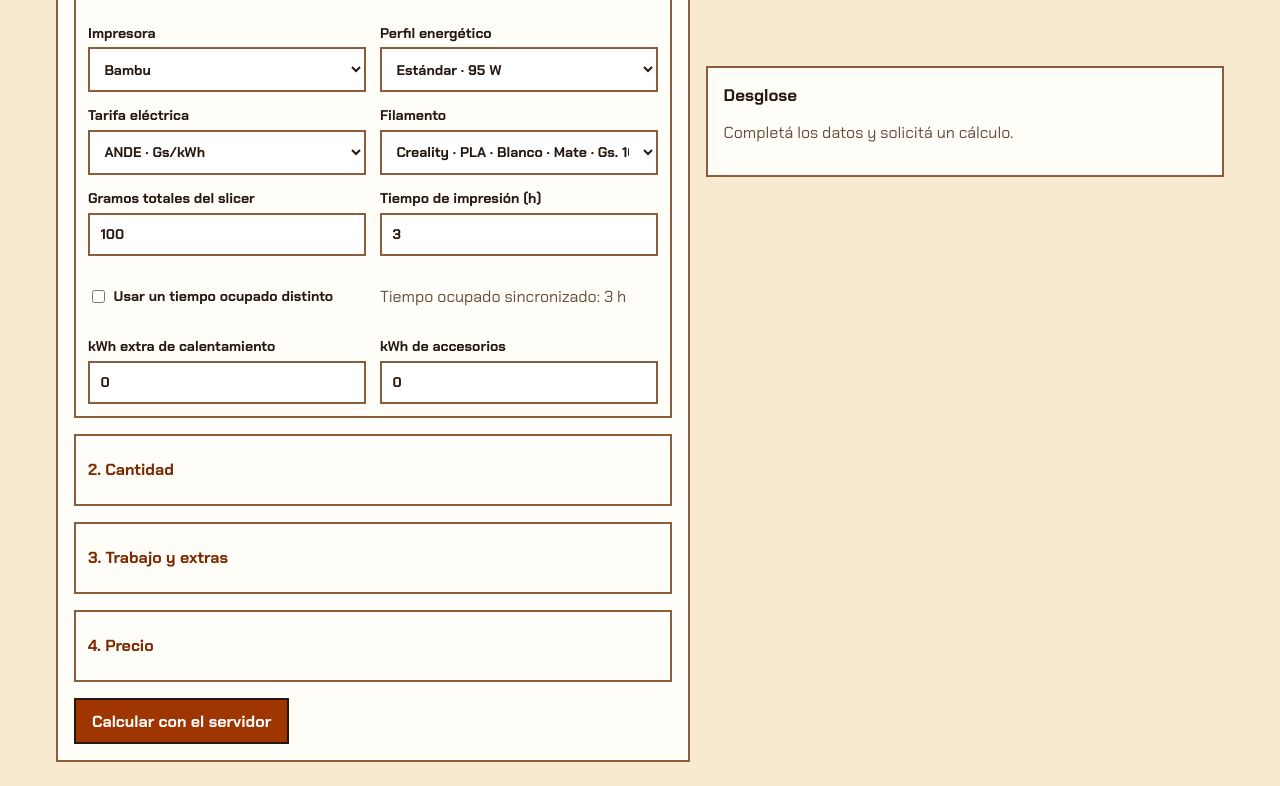
Test case: precio avanzado vigente › oculta el precio y las acciones inmediatamente al editar una entrada económica
The image size is (1280, 786).
(page scrolled)
Click the button "Calcular con el servidor".
click(182, 721)  # box [74, 698, 289, 744]
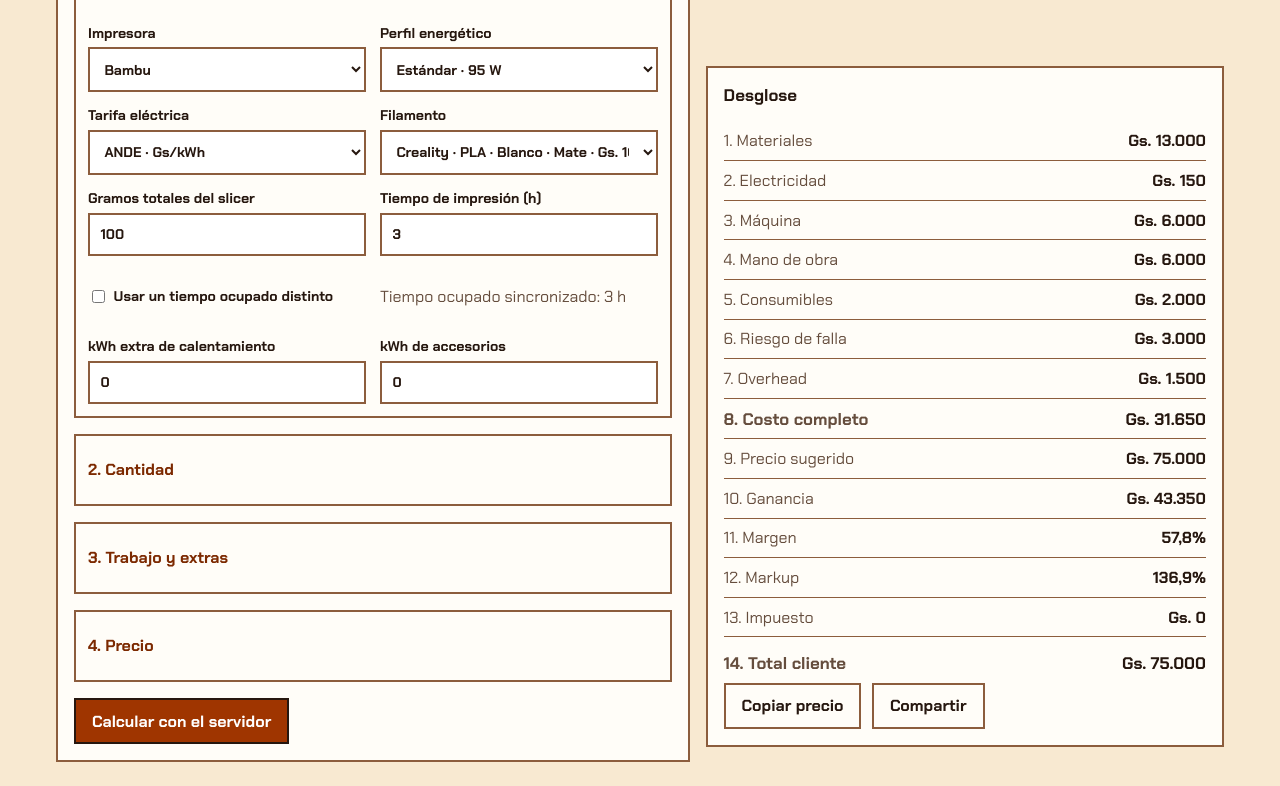
Replace the text in the number field labelled "Gramos totales del slicer" with "200" at (227, 234), box [88, 213, 366, 256]
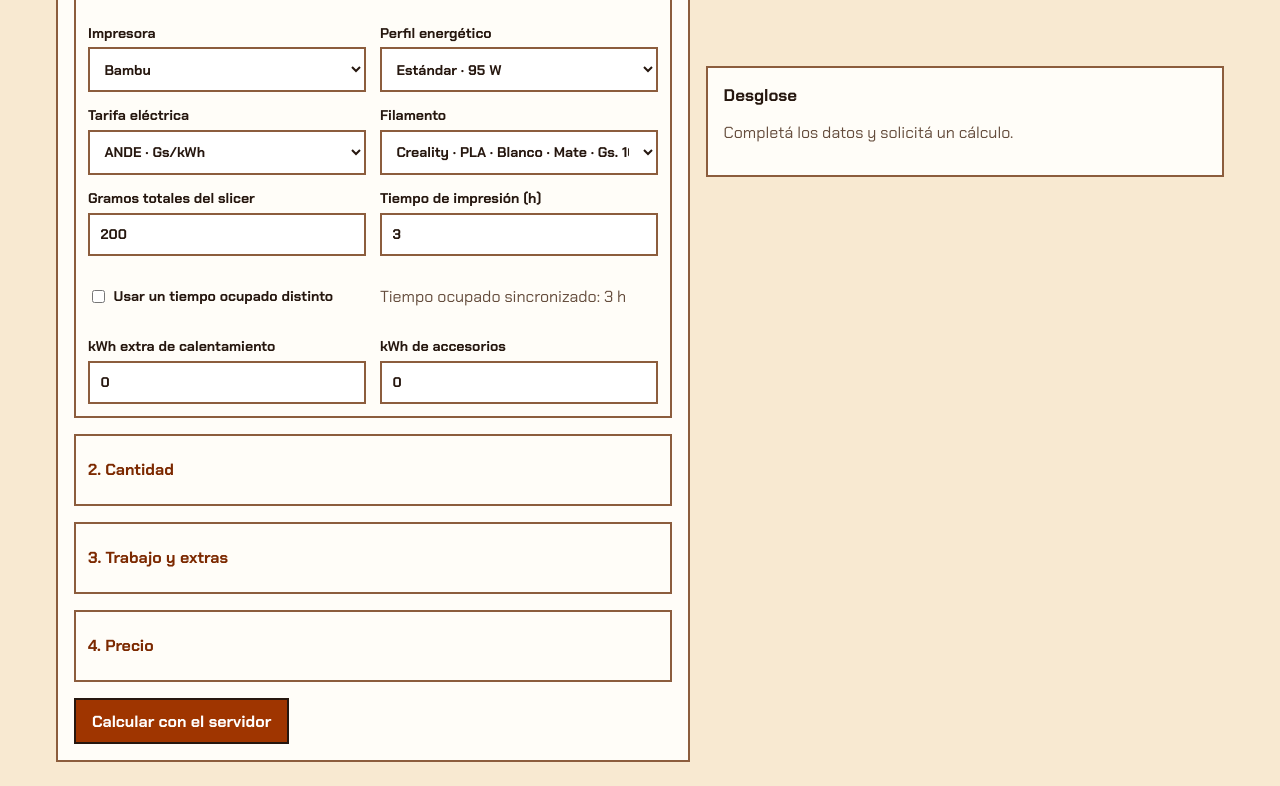
Expected: the text "Gs. 75.000" is not shown
Expected: the button "Copiar precio" is gone
Expected: the button "Compartir" is gone
